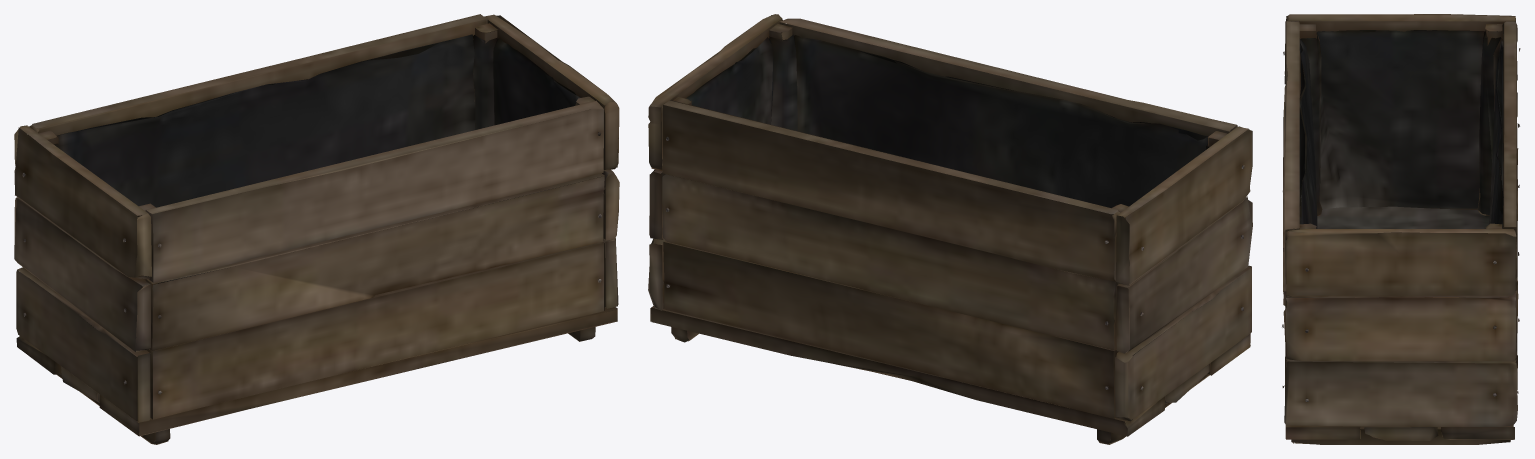
File: planter_box_01.glb
3 renders of one model, left to right at view 1: azimuth 30°, elevation 25°; view 2: azimuth 150°, elevation 25°; view 3: azimuth 270°, elevation 25°, orthographic. The views are drawn at different scales.
Visible parts, largest first — view 1: planter_box_01; view 2: planter_box_01; view 3: planter_box_01.
Boxes of the visible parts, x1,y1,x2,y2 form: planter_box_01: (14,14,619,444); planter_box_01: (648,14,1252,444); planter_box_01: (1282,14,1520,444).
Bounding box in the file's own units: 0.9147 × 0.4262 × 0.4163.
Materials: 1 (1 with a texture image).
